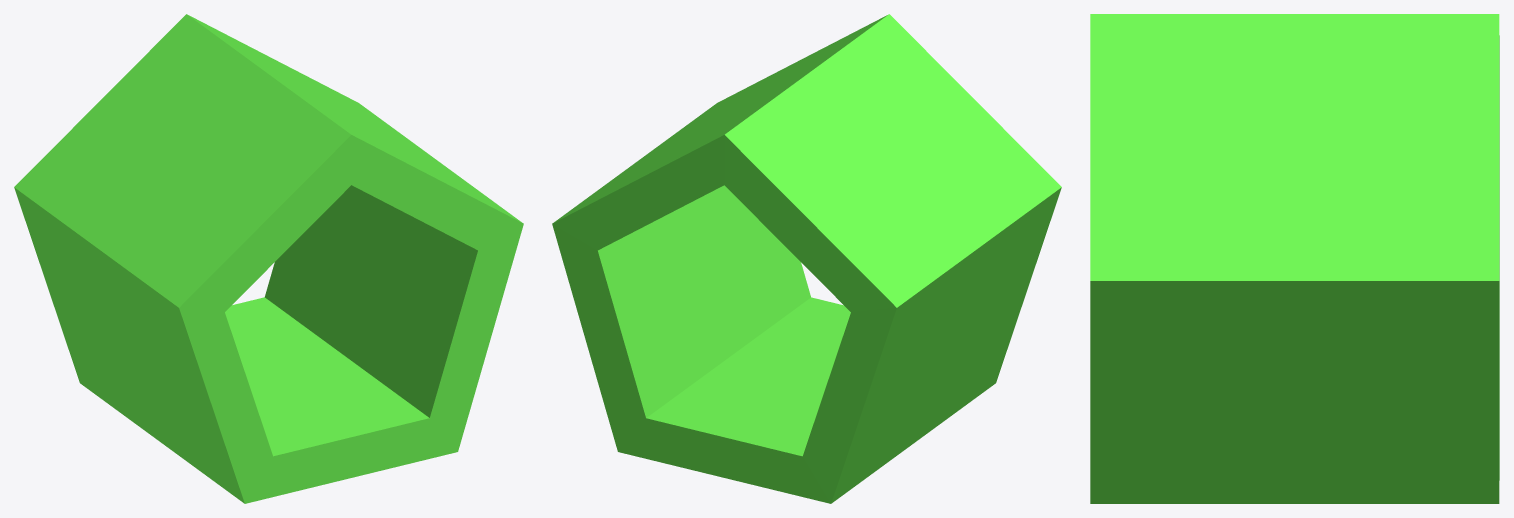
Rendered from chives02.gltf.
3 views of the same model, side by side, from view 1: azimuth 30°, elevation 25°; view 2: azimuth 150°, elevation 25°; view 3: azimuth 270°, elevation 25° (orthographic). The views are drawn at different scales.
Visible parts, largest first — view 1: Cylinder; view 2: Cylinder; view 3: Cylinder.
Part boxes in pixels (x1,y1,x2,y2): Cylinder: (14,14,523,503); Cylinder: (552,14,1061,503); Cylinder: (1090,14,1499,503).
Bounding box in the file's own units: 0.00572 × 0.00544 × 0.00474.
1 material, 1 textured.
